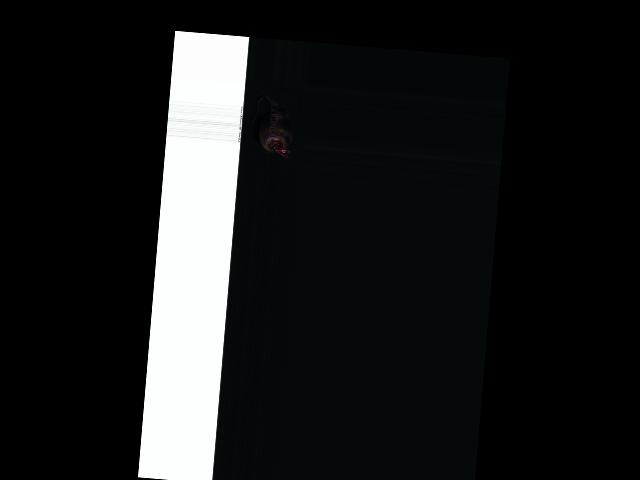beet: (249, 95, 295, 160)
